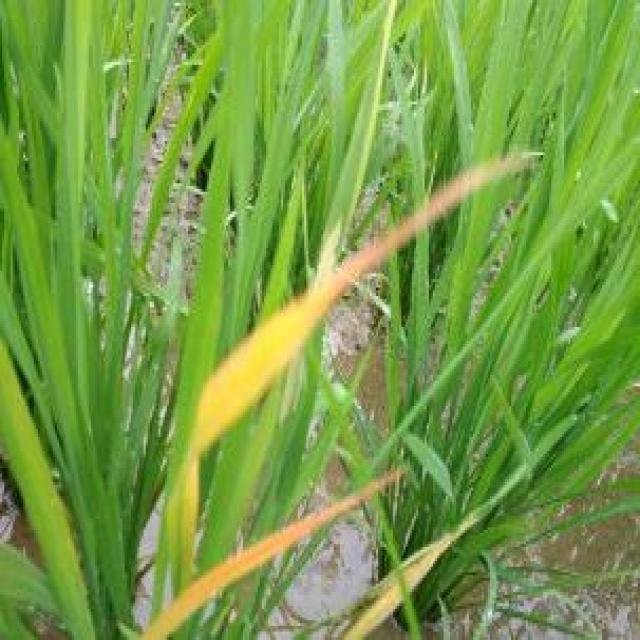Tungro: (202, 140, 532, 440), (147, 456, 449, 640)
